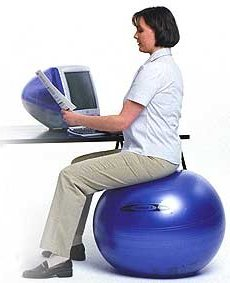yogaball: (93, 168, 227, 281)
